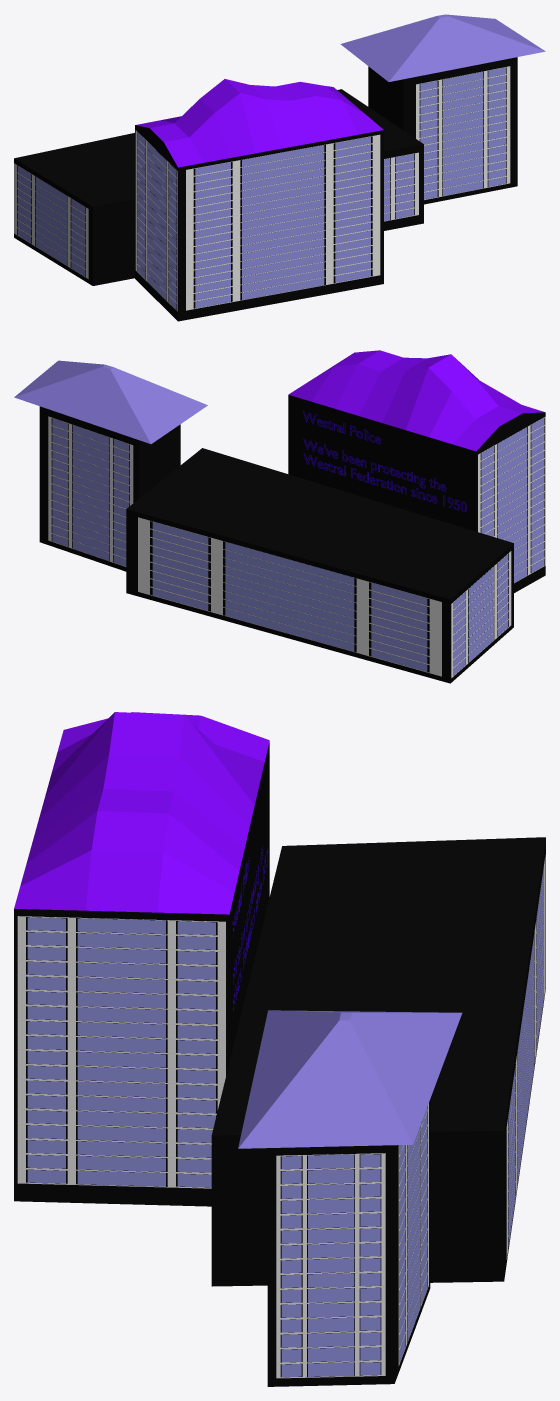
File: WestralPoliceHeadquarters.fbx
3 renders of one model, top to bottom at view 1: azimuth 30°, elevation 25°; view 2: azimuth 150°, elevation 25°; view 3: azimuth 270°, elevation 25°, orthographic. The views are drawn at different scales.
Visible parts, largest first — view 1: Window.001, BobbyTower, NewWestralYardTower, WestralPoliceHQ, Window.008, Window.002, Window.004, Window.005; view 2: WestralPoliceHQ, BobbyTower, Window.003, NewWestralYardTower, Window.006, Window.002, Window.004, Text.002, Text; view 3: WestralPoliceHQ, Window, BobbyTower, NewWestralYardTower, Window.007, Window.006, Window.003, Text.002.
Part boxes in pixels (x1,y1,x2,y2): Window.001: [186, 134, 380, 310]; BobbyTower: [135, 79, 383, 321]; NewWestralYardTower: [340, 14, 545, 204]; WestralPoliceHQ: [14, 89, 423, 285]; Window.008: [416, 66, 510, 199]; Window.002: [135, 130, 177, 311]; Window.004: [14, 163, 88, 278]; Window.005: [384, 152, 418, 221]; WestralPoliceHQ: [126, 448, 513, 683]; BobbyTower: [288, 350, 545, 592]; Window.003: [138, 517, 441, 676]; NewWestralYardTower: [14, 360, 207, 571]; Window.006: [48, 416, 133, 566]; Window.002: [478, 416, 545, 583]; Window.004: [451, 551, 511, 677]; Text.002: [303, 438, 466, 512]; Text: [302, 410, 380, 444]; WestralPoliceHQ: [211, 837, 545, 1286]; Window: [17, 916, 225, 1188]; BobbyTower: [14, 712, 269, 1206]; NewWestralYardTower: [238, 1010, 462, 1386]; Window.007: [276, 1153, 385, 1378]; Window.006: [398, 1103, 428, 1365]; Window.003: [506, 855, 545, 1259]; Text.002: [233, 846, 267, 1010].
Bounding box in the file's own units: 12322 × 5224 × 6621.
